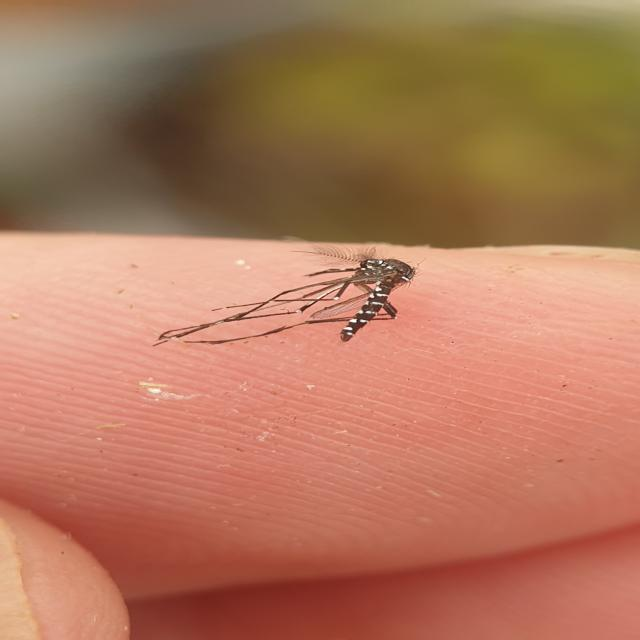albopictus: (163, 240, 436, 351)
